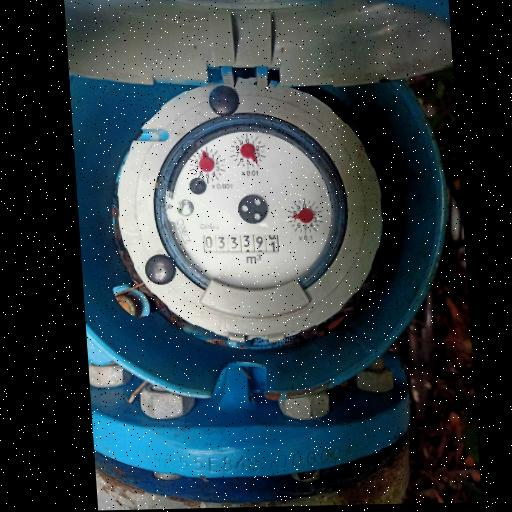0: (203, 235, 216, 252), (266, 235, 278, 252)
3: (227, 236, 242, 253), (241, 236, 255, 252), (216, 235, 229, 252)
9: (254, 235, 267, 252)
border_water_meter_number: (201, 232, 282, 256)
